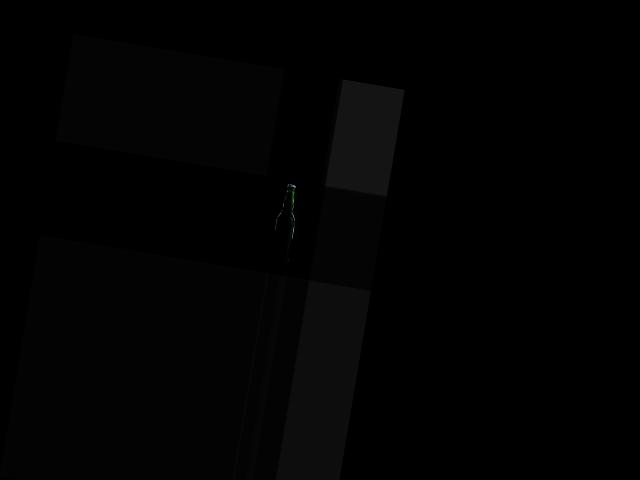beer: (269, 182, 302, 263)
